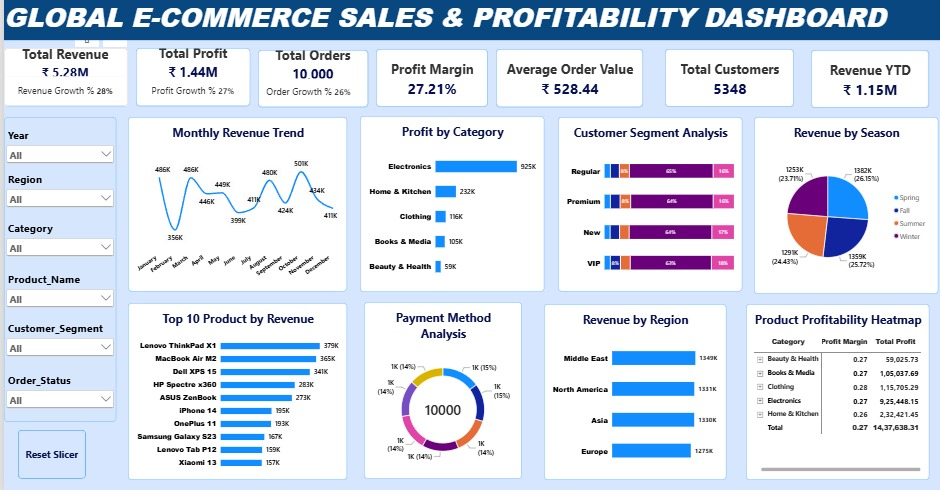

What the dashboard file says about the page in this screenshot:
{"tool":"powerbi","page":{"name":"Page 4","canvas":[1920,1020],"ordinal":4},"visuals":[{"type":"lineChart","title":"Monthly Revenue Trend","fields":{"Category":["dim_date.Month Name"],"Y":["fact_sales.Total Revenue"]},"box":[252.7,257,447.1,356.4],"z":0},{"type":"cardVisual","fields":{"Data":["fact_sales.Total Revenue"]},"box":[0,116.6,252.7,118.8],"z":1000},{"type":"textbox","box":[0,15.1,1920.2,86.4],"z":2000},{"type":"clusteredBarChart","title":"Profit by Category","fields":{"Category":["dim_product.Category"],"Y":["fact_sales.Total Profit"]},"box":[725.8,254.9,375.8,358.6],"z":3000},{"type":"cardVisual","fields":{"Data":["fact_sales.Total Profit"]},"box":[270,116.6,233.3,118.8],"z":4000},{"type":"shape","box":[0,257,229,622.1],"z":5000},{"type":"barChart","title":"Revenue by Region","fields":{"Category":["dim_location.Region"],"Y":["fact_sales.Total Revenue"]},"box":[1101.6,639.4,371.5,358.6],"z":6000},{"type":"cardVisual","fields":{"Data":["fact_sales.Total Orders"]},"box":[518.4,121,224.6,116.6],"z":7000},{"type":"hundredPercentStackedBarChart","title":"Customer Segment Analysis","fields":{"Category":["dim_Customer.Customer_Segment"],"Series":["dim_product.Category"],"Y":["fact_sales.Total Revenue"]},"box":[1129.7,257,375.8,356.4],"z":8000},{"type":"cardVisual","fields":{"Data":["fact_sales.Profit Margin %"]},"box":[758.9,118.3,228.5,118.3],"z":9000},{"type":"clusteredBarChart","title":"Top 10 Product by Revenue","fields":{"Category":["dim_product.Product_Name"],"Y":["fact_sales.Total Revenue"]},"box":[252.7,637.2,447.1,360.7],"z":10000},{"type":"cardVisual","fields":{"Data":["fact_sales.Average Order Value"]},"box":[1003.7,118.3,300.2,118.8],"z":11000},{"type":"donutChart","title":"Payment Method Analysis","fields":{"Category":["fact_sales.Payment_Method"],"Y":["fact_sales.Total Orders"]},"box":[734.4,635,321.8,360.7],"z":12000},{"type":"cardVisual","fields":{"Data":["fact_sales.Total Customers"]},"box":[1348.4,118.3,263.2,118.3],"z":13000},{"type":"cardVisual","fields":{"Data":["fact_sales.Revenue YTD"]},"box":[1646.3,120.4,240.7,118.3],"z":14000},{"type":"pieChart","title":"Revenue by Season","fields":{"Category":["fact_sales.Season"],"Y":["fact_sales.Total Revenue"]},"box":[1529.3,257,375.8,360.7],"z":15000},{"type":"pivotTable","title":"Product Profitability Heatmap","fields":{"Rows":["dim_product.Category","dim_product.Sub_Category"],"Values":["fact_sales.Profit Margin","fact_sales.Total Profit"]},"box":[1514.2,639.4,373.7,358.6],"z":16000},{"type":"group","id":"g1","title":"Group 1","box":[0,279.6,228.5,581.4],"z":17000},{"type":"slicer","fields":{"Values":["dim_date.Year"]},"box":[0,279.6,229.3,82.4],"z":18000,"group":"g1"},{"type":"actionButton","box":[28.9,896,138.3,99.1],"z":18000},{"type":"slicer","fields":{"Values":["dim_location.Region"]},"box":[0,370.3,229,82.1],"z":19000,"group":"g1"},{"type":"slicer","fields":{"Values":["dim_product.Category"]},"box":[0,469.7,229,82.1],"z":20000,"group":"g1"},{"type":"slicer","fields":{"Values":["dim_Customer.Customer_Segment"]},"box":[0,672.7,229,82.1],"z":21000,"group":"g1"},{"type":"slicer","fields":{"Values":["Dim_OrderStatus.Order_Status"]},"box":[0,778.6,229,82.1],"z":22000,"group":"g1"},{"type":"slicer","fields":{"Values":["dim_product.Product_Name"]},"box":[0,573.4,229,82.1],"z":23000,"group":"g1"}]}

Visuals, with their boxes in screenshot pixels (x1, y1, x2, y2), scaled from the page's 1920x1020 canvas onto the 940x490 screenshot:
"Monthly Revenue Trend" lineChart: select_region(124, 123, 343, 295)
cardVisual - fact_sales.Total Revenue: select_region(0, 56, 124, 113)
textbox: select_region(0, 7, 939, 49)
"Profit by Category" clusteredBarChart: select_region(355, 122, 539, 295)
cardVisual - fact_sales.Total Profit: select_region(132, 56, 246, 113)
shape: select_region(0, 123, 112, 422)
"Revenue by Region" barChart: select_region(539, 307, 721, 479)
cardVisual - fact_sales.Total Orders: select_region(254, 58, 364, 114)
"Customer Segment Analysis" hundredPercentStackedBarChart: select_region(553, 123, 737, 295)
cardVisual - fact_sales.Profit Margin %: select_region(372, 57, 483, 114)
"Top 10 Product by Revenue" clusteredBarChart: select_region(124, 306, 343, 479)
cardVisual - fact_sales.Average Order Value: select_region(491, 57, 638, 114)
"Payment Method Analysis" donutChart: select_region(360, 305, 517, 478)
cardVisual - fact_sales.Total Customers: select_region(660, 57, 789, 114)
cardVisual - fact_sales.Revenue YTD: select_region(806, 58, 924, 115)
"Revenue by Season" pieChart: select_region(749, 123, 933, 297)
"Product Profitability Heatmap" pivotTable: select_region(741, 307, 924, 479)
"Group 1" group: select_region(0, 134, 112, 414)
slicer - dim_date.Year: select_region(0, 134, 112, 174)
actionButton: select_region(14, 430, 82, 478)
slicer - dim_location.Region: select_region(0, 178, 112, 217)
slicer - dim_product.Category: select_region(0, 226, 112, 265)
slicer - dim_Customer.Customer_Segment: select_region(0, 323, 112, 363)
slicer - Dim_OrderStatus.Order_Status: select_region(0, 374, 112, 413)
slicer - dim_product.Product_Name: select_region(0, 275, 112, 315)
